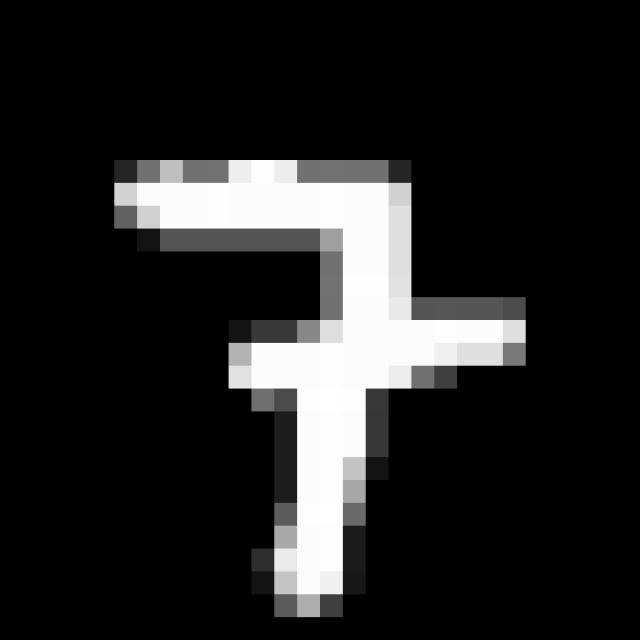seven -7-: (103, 156, 538, 623)
